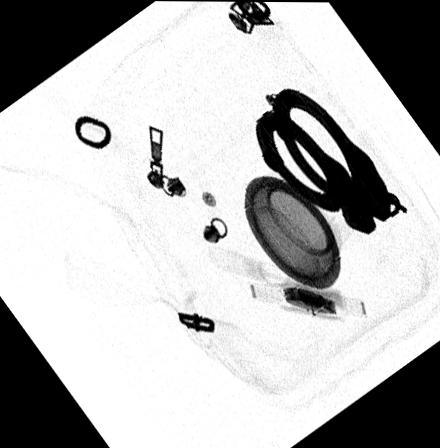HandCuffs: (251, 85, 410, 237)
